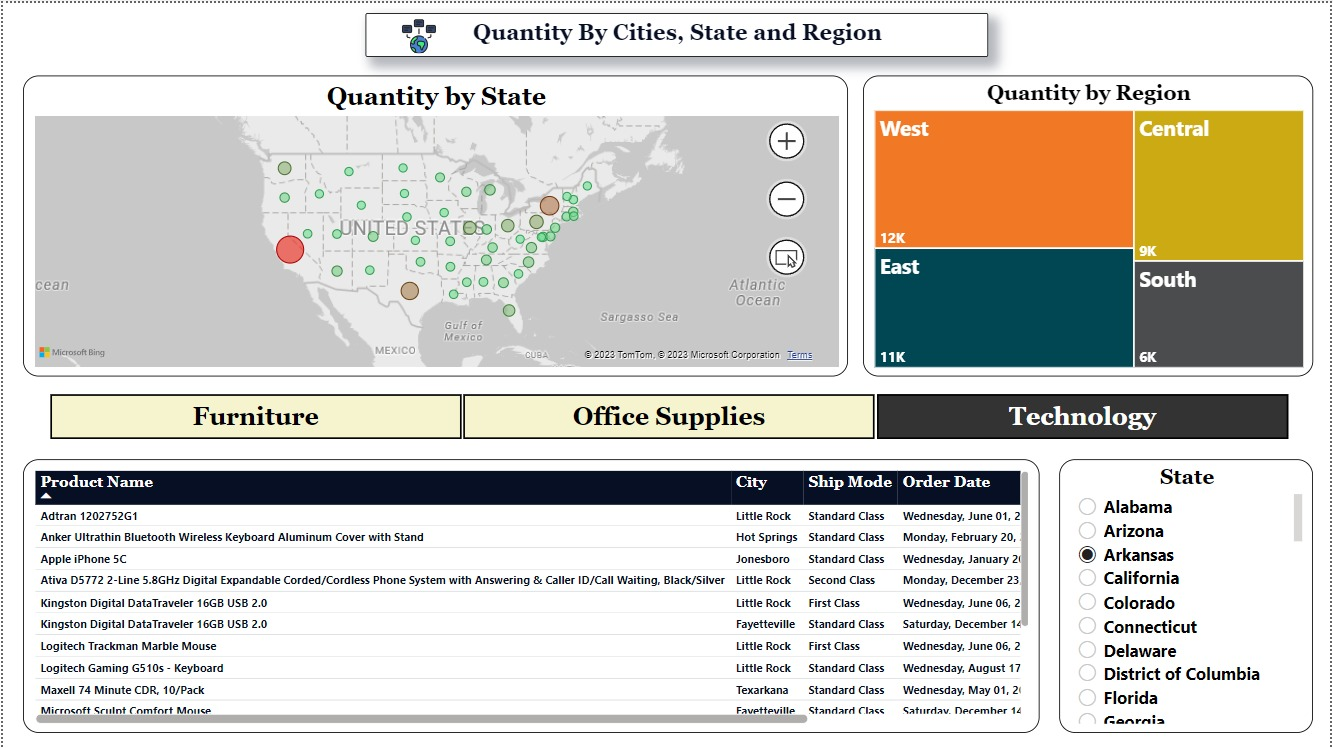

This screenshot's page, from the dashboard's own definition file:
{"tool":"powerbi","page":{"name":"Quantity by City, State & Region","canvas":[1280,720],"ordinal":1},"visuals":[{"type":"map","title":"Quantity by State","fields":{"Category":["Orders.State"],"Size":["Sum(Orders.Quantity)"]},"box":[19.3,69.9,796,290.7],"z":0},{"type":"tableEx","fields":{"Values":["Orders.Product Name","Orders.City","Orders.Ship Mode","Orders.Order Date","Orders.Ship Date","Orders.Days"]},"box":[19.3,440.2,980.5,264.1],"z":1000},{"type":"slicer","fields":{"Values":["Orders.Category"]},"box":[19.3,370.3,1244.6,54.3],"z":2000},{"type":"slicer","title":"State","fields":{"Values":["Orders.State"]},"box":[1019.1,440.2,244.8,264.1],"z":3000},{"type":"treemap","title":"Quantity by Region","fields":{"Group":["Orders.Region"],"Values":["Sum(Orders.Quantity)"]},"box":[829.7,69.9,434.2,290.7],"z":4000},{"type":"textbox","box":[349.7,9.6,600.6,42.2],"z":5000},{"type":"image","box":[349.7,10.9,102.5,42.2],"z":6000}]}

Visuals, with their boxes in screenshot pixels (x1, y1, x2, y2), scaled from the page's 1280x720 canvas onto the 1333x748 screenshot:
"Quantity by State" map: {"x1": 20, "y1": 73, "x2": 849, "y2": 375}
tableEx - Orders.Product Name x Orders.City: {"x1": 20, "y1": 457, "x2": 1041, "y2": 732}
slicer - Orders.Category: {"x1": 20, "y1": 385, "x2": 1316, "y2": 441}
"State" slicer: {"x1": 1061, "y1": 457, "x2": 1316, "y2": 732}
"Quantity by Region" treemap: {"x1": 864, "y1": 73, "x2": 1316, "y2": 375}
textbox: {"x1": 364, "y1": 10, "x2": 990, "y2": 54}
image: {"x1": 364, "y1": 11, "x2": 471, "y2": 55}
